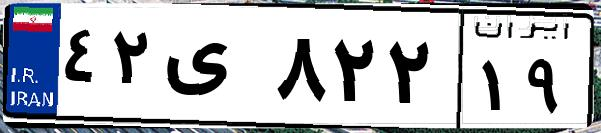1: (475, 38, 525, 113)
2: (385, 28, 445, 110), (330, 28, 385, 110), (110, 28, 158, 98)
4: (57, 26, 110, 100)
8: (270, 28, 330, 110)
9: (525, 38, 570, 115)
ی: (158, 20, 270, 120)
